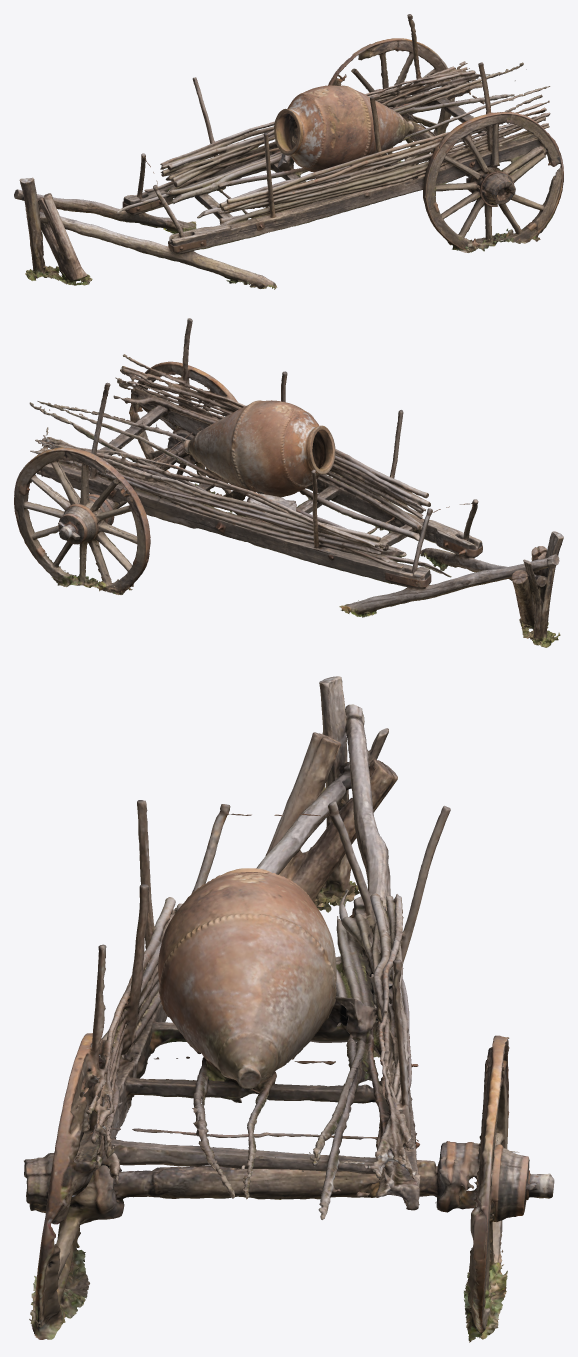
The model's file is old_cart_with_a_qvevri_clay_vessel_-_raw_scan.glb.
3 views of the same model, one above another, from view 1: azimuth 30°, elevation 25°; view 2: azimuth 150°, elevation 25°; view 3: azimuth 270°, elevation 25° (orthographic). The views are drawn at different scales.
Visible parts, largest first — view 1: Model; view 2: Model; view 3: Model.
Boxes of the visible parts, left/top/right/bottom form: Model: left=14, top=14, right=563, bottom=289; Model: left=14, top=318, right=563, bottom=647; Model: left=24, top=676, right=554, bottom=1342.
Size of the model in its own units: 12.97 by 4.48 by 5.86.
1 material, 1 textured.
